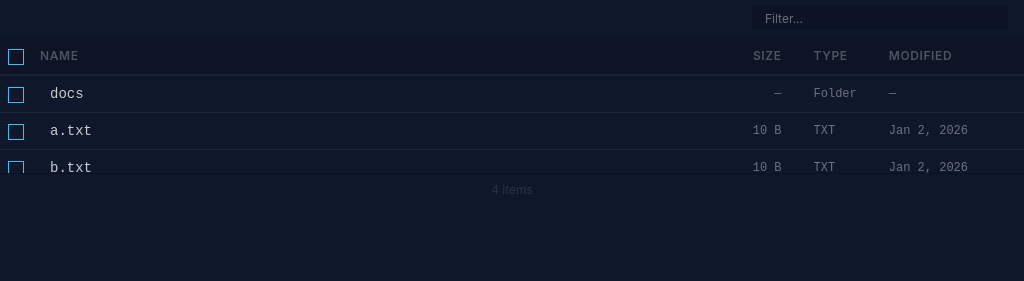
Test case: FileExplorer › context menu › opens for a file and selects it
Expected: the text "docs" is shown, [50, 84, 84, 104]
Click the text "b.txt". click: (512,168)
box: [0, 150, 1023, 187]
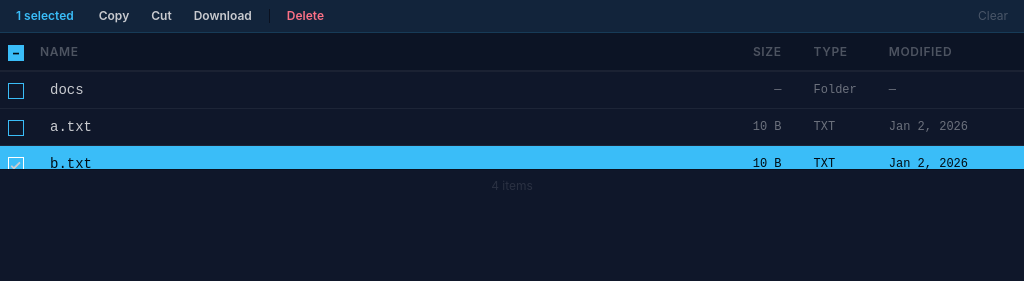
Right-click the text "a.txt" at (512,128), box [0, 109, 1023, 146]
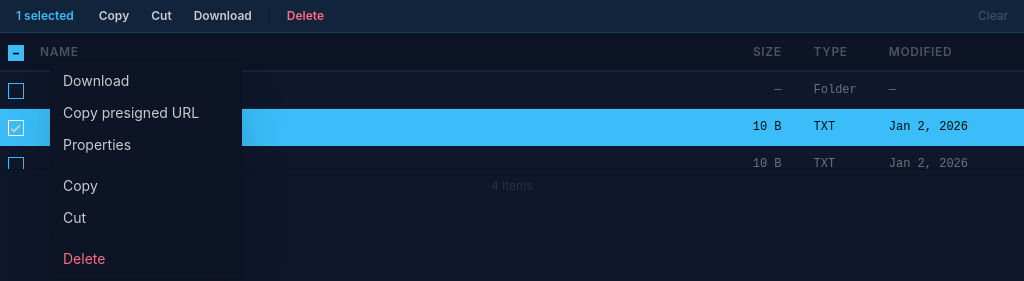
Now the 2nd button "Download" is shown, box [51, 65, 241, 97]
Now the button "Copy presigned URL" is shown, box [51, 97, 241, 129]
